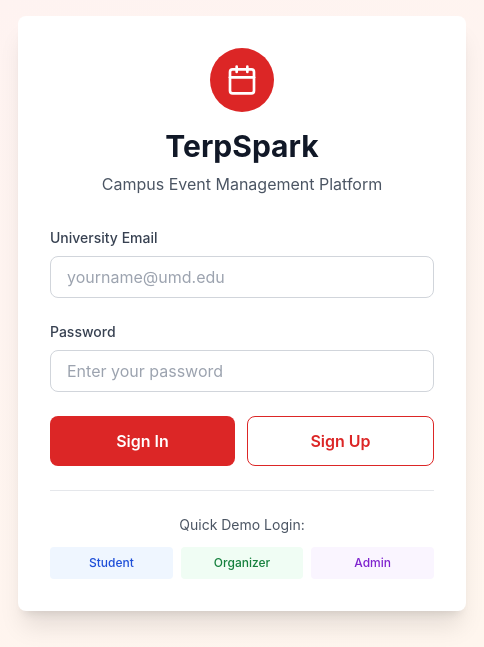
Scenario: LoginPage › populates credentials for organizer quick login
Click the button "Organizer": [242, 562] box 181,546 -> 303,578
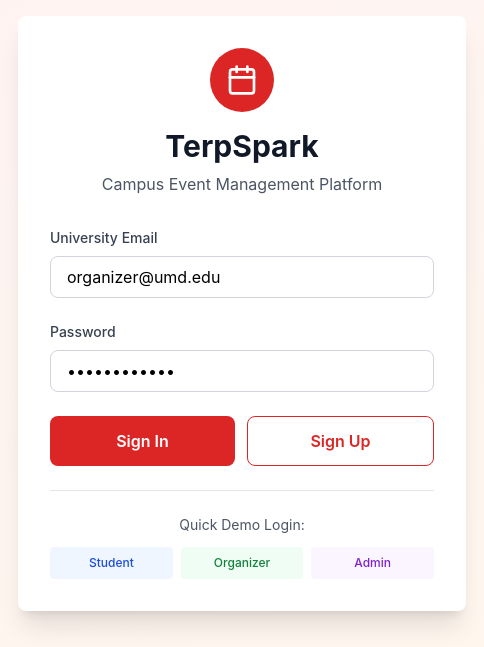
Expected: the field showing "organizer@umd.edu" is shown, 50,256 -> 434,298
Expected: the password field showing "organizer123" is shown, 50,350 -> 434,392
